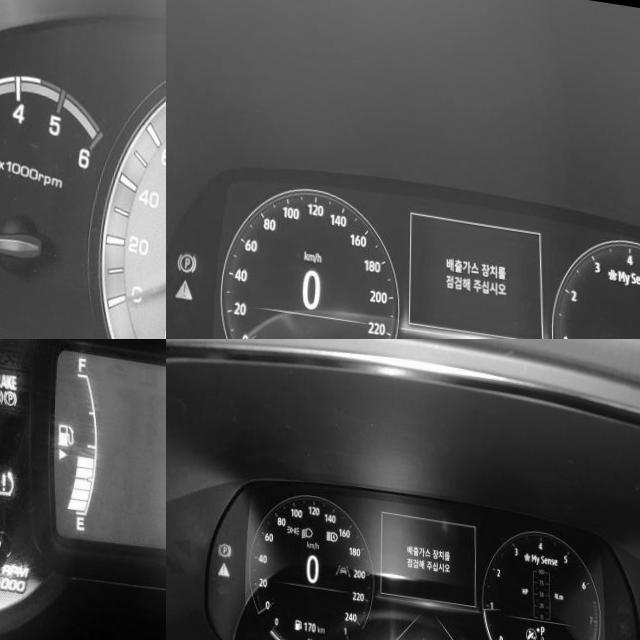Central Warning lamp: (176, 275, 193, 299), (217, 556, 231, 574)
Low beam: (301, 519, 313, 533)
SideLamp: (286, 517, 299, 529)
